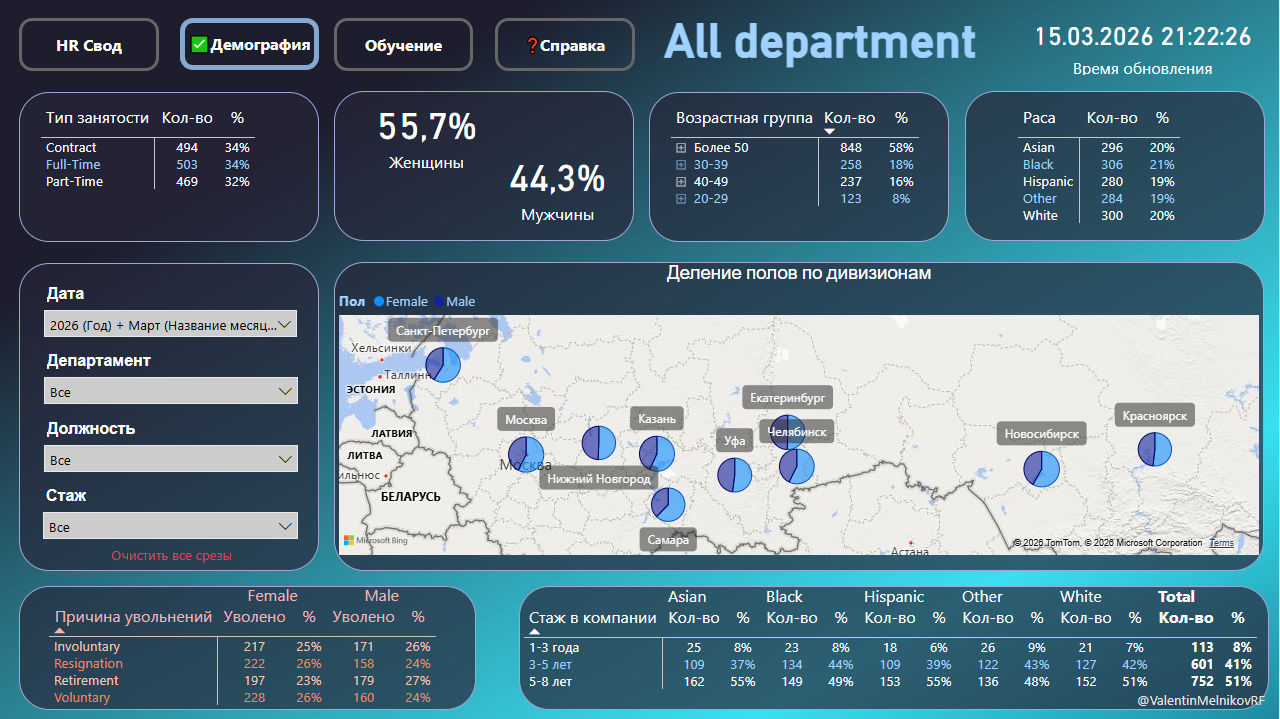

This screenshot's page, from the dashboard's own definition file:
{"tool":"powerbi","page":{"name":"Демография","canvas":[1280,720],"ordinal":1},"visuals":[{"type":"textbox","box":[519.8,585.7,749.9,124.7],"z":0},{"type":"textbox","box":[650,92,300,150],"z":1000},{"type":"textbox","box":[335.2,90.9,300,150],"z":2000},{"type":"textbox","box":[20.2,585.7,456.6,124.7],"z":3000},{"type":"textbox","box":[20,263,300,308],"z":4000},{"type":"card","fields":{"Values":["Меры.Женщины %"]},"box":[320.5,64.8,214.8,135.2],"z":5000},{"type":"textbox","box":[1132.5,685.5,147,34.9],"z":6000},{"type":"slicer","fields":{"Values":["Календарь.Год","Календарь.Название месяца","Календарь.Дата"]},"box":[34.9,279.5,273.5,67.5],"z":7000},{"type":"textbox","box":[335.4,261.7,929.9,309.1],"z":8000},{"type":"slicer","fields":{"Values":["employees.department_type"]},"box":[35,347.1,274.5,67.5],"z":9000},{"type":"slicer","fields":{"Values":["employees.job_function"]},"box":[35,414.6,274.5,67.5],"z":10000},{"type":"slicer","fields":{"Values":["employees.Tenure Group"]},"box":[34,482,275,78],"z":11000},{"type":"card","fields":{"Values":["Меры.Мужчины %"]},"box":[451.1,117,214.8,135.2],"z":12000},{"type":"pivotTable","fields":{"Rows":["employees.Age Group","employees.Age"],"Values":["Меры.Активные сотрудники","Divide(Меры.Активные сотрудники, ScopedEval(Меры.Активные сотрудники, [Role.Columns]))"]},"box":[667,101.1,265.9,139.8],"z":13000},{"type":"textbox","box":[965.9,90.9,300,150],"z":14000},{"type":"pivotTable","fields":{"Rows":["employees.race"],"Values":["Меры.Активные сотрудники","Divide(Меры.Активные сотрудники, ScopedEval(Меры.Активные сотрудники, [Role.Columns]))"]},"box":[1014,101,192,132],"z":15000},{"type":"actionButton","box":[82,539,181,32],"z":16000},{"type":"textbox","box":[20,92,300,150],"z":17000},{"type":"pivotTable","fields":{"Rows":["employees.employee_type"],"Values":["Меры.Активные сотрудники","Divide(Меры.Активные сотрудники, ScopedEval(Меры.Активные сотрудники, [Role.Columns]))"]},"box":[37,101,266,140],"z":18000},{"type":"map","title":"Деление полов по дивизионам","fields":{"Category":["ID Dapartment.Город"],"Size":["Меры.Активные сотрудники"],"Series":["employees.gender"]},"box":[335.4,261.7,929.9,298.5],"z":19000},{"type":"pivotTable","fields":{"Rows":["employees.termination_type"],"Values":["Меры.Уволенные сотрудники","Divide(Меры.Уволенные сотрудники, ScopedEval(Меры.Уволенные сотрудники, [Role.Columns]))"],"Columns":["employees.gender"]},"box":[44.8,578.6,406.5,131.7],"z":20000},{"type":"pivotTable","fields":{"Rows":["employees.Tenure Group"],"Values":["Меры.Активные сотрудники","Divide(Меры.Активные сотрудники, ScopedEval(Меры.Активные сотрудники, [Role.Columns]))"],"Columns":["employees.race"]},"box":[519.8,580.4,745.5,130],"z":21000},{"type":"card","fields":{"Values":["Min(Время обновления.Дата последнего обновления)"]},"box":[1021.7,9.6,243.4,69.9],"z":22000},{"type":"card","fields":{"Values":["Меры.Департамент"]},"box":[635.7,9.7,371.4,70.2],"z":23000},{"type":"actionButton","box":[19.9,18,140,53],"z":24000},{"type":"actionButton","box":[180.9,17.6,139.6,52.7],"z":25000},{"type":"actionButton","box":[334.5,18.4,139.6,52.7],"z":26000},{"type":"actionButton","box":[496.1,18.4,139.6,52.7],"z":27000}]}

Visuals, with their boxes in screenshot pixels (x1, y1, x2, y2), scaled from the page's 1280x720 canvas onto the 1280x719 screenshot:
textbox: 520:585:1270:709
textbox: 650:92:950:242
textbox: 335:91:635:241
textbox: 20:585:477:709
textbox: 20:263:320:570
card - Меры.Женщины %: 320:65:535:200
textbox: 1132:685:1279:718
slicer - Календарь.Год x Календарь.Название месяца: 35:279:308:347
textbox: 335:261:1265:570
slicer - employees.department_type: 35:347:310:414
slicer - employees.job_function: 35:414:310:481
slicer - employees.Tenure Group: 34:481:309:559
card - Меры.Мужчины %: 451:117:666:252
pivotTable - employees.Age Group x employees.Age: 667:101:933:241
textbox: 966:91:1266:241
pivotTable - employees.race x Меры.Активные сотрудники: 1014:101:1206:233
actionButton: 82:538:263:570
textbox: 20:92:320:242
pivotTable - employees.employee_type x Меры.Активные сотрудники: 37:101:303:241
"Деление полов по дивизионам" map: 335:261:1265:559
pivotTable - employees.termination_type x Меры.Уволенные сотрудники: 45:578:451:709
pivotTable - employees.Tenure Group x Меры.Активные сотрудники: 520:580:1265:709
card - Min(Время обновления.Дата последнего обновления): 1022:10:1265:79
card - Меры.Департамент: 636:10:1007:80
actionButton: 20:18:160:71
actionButton: 181:18:320:70
actionButton: 334:18:474:71
actionButton: 496:18:636:71
